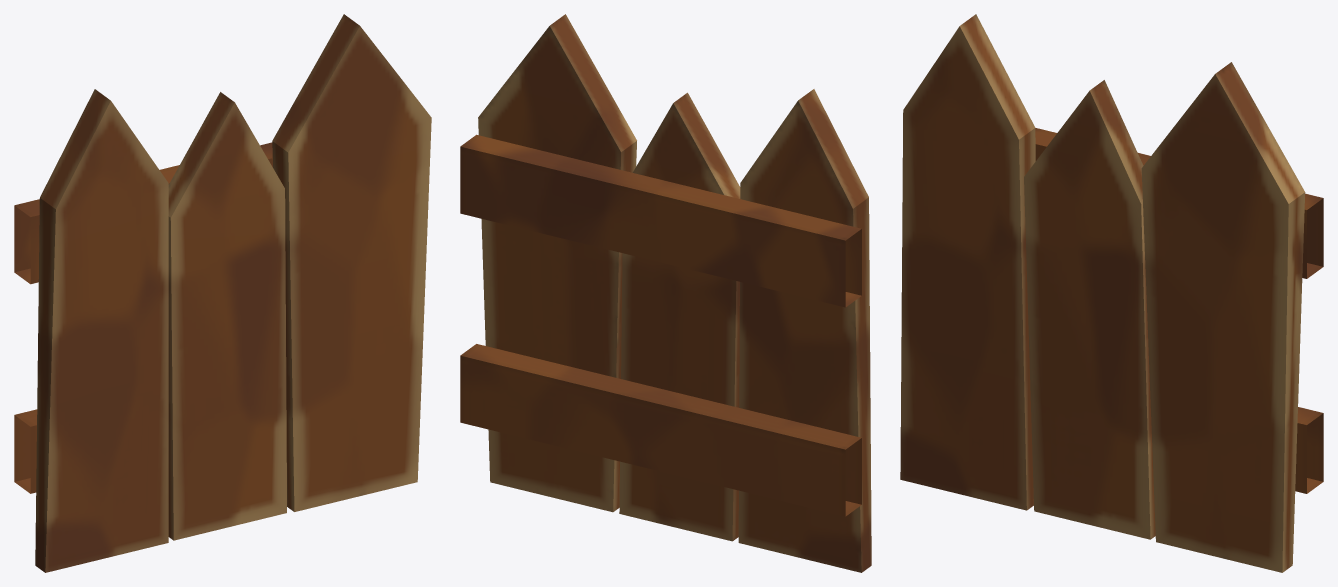
File: FenceWood.fbx
3 renders of one model, left to right at view 1: azimuth 30°, elevation 25°; view 2: azimuth 150°, elevation 25°; view 3: azimuth 330°, elevation 25°, orthographic. The views are drawn at different scales.
Parts seen in each view (by area): view 1: FenceWood; view 2: FenceWood; view 3: FenceWood.
Boxes of the visible parts, <box> form: FenceWood: <box>14,14,431,572</box>; FenceWood: <box>460,14,871,572</box>; FenceWood: <box>900,14,1323,572</box>.
Size of the model in its own units: 100 by 117 by 14.58.
